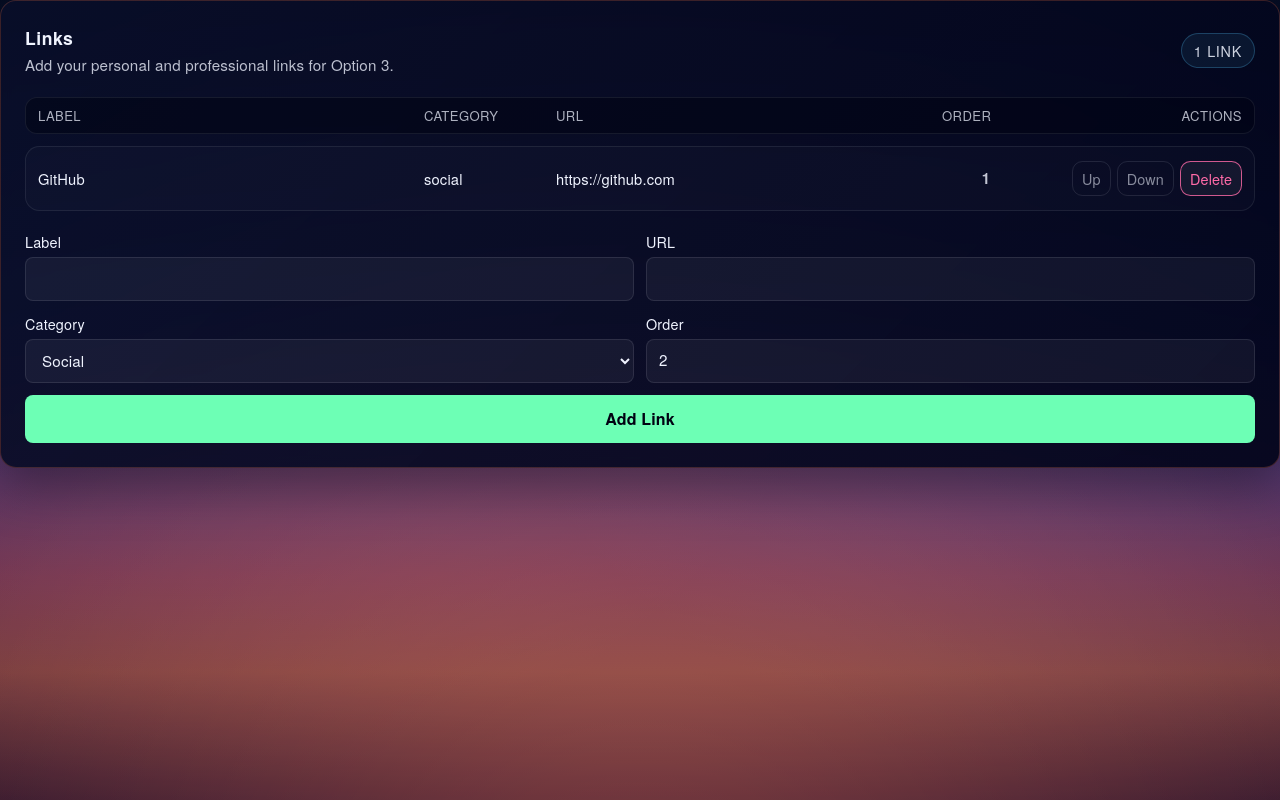
Test: LinksManager › surfaces server validation details
The image size is (1280, 800).
Type "Site" into the field labelled "Label" at (330, 279), box left=25, top=257, right=634, bottom=301
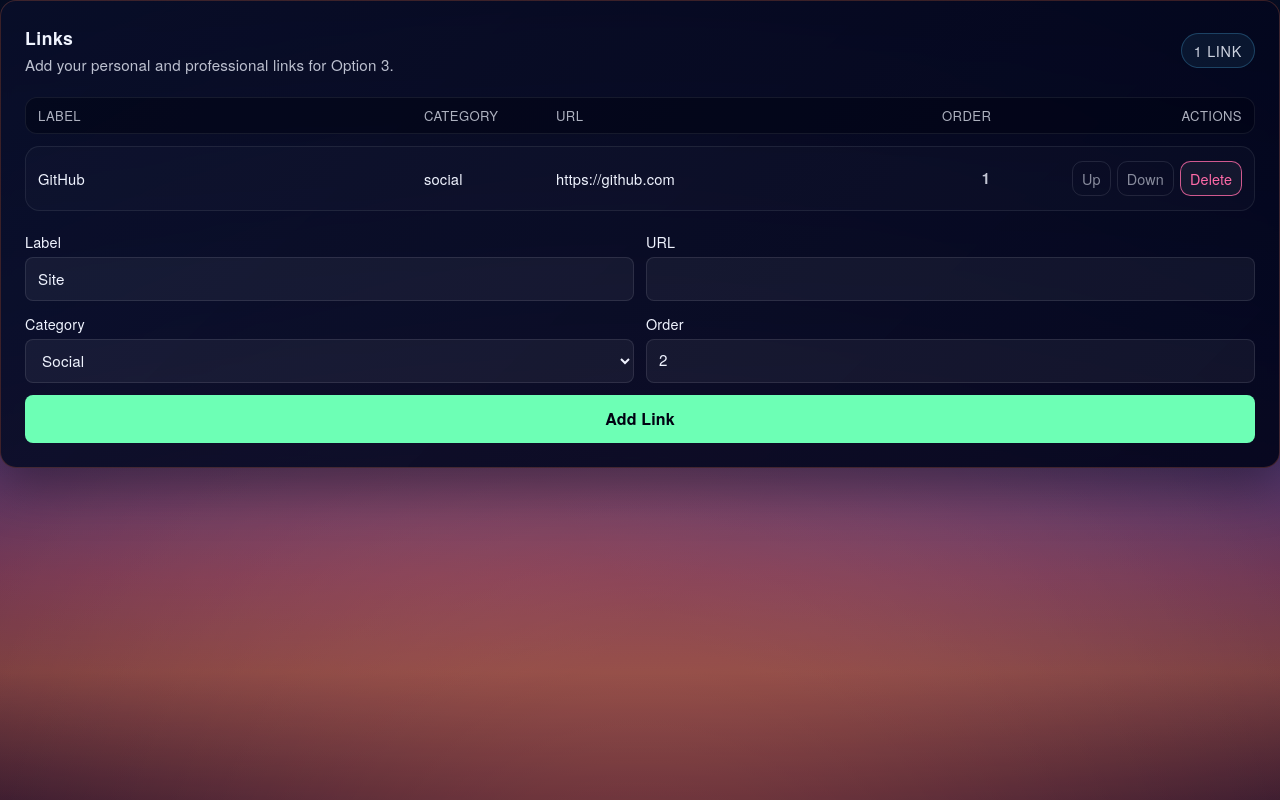
Type "http://bad.test" into the field labelled "URL" at (950, 279), box left=646, top=257, right=1255, bottom=301
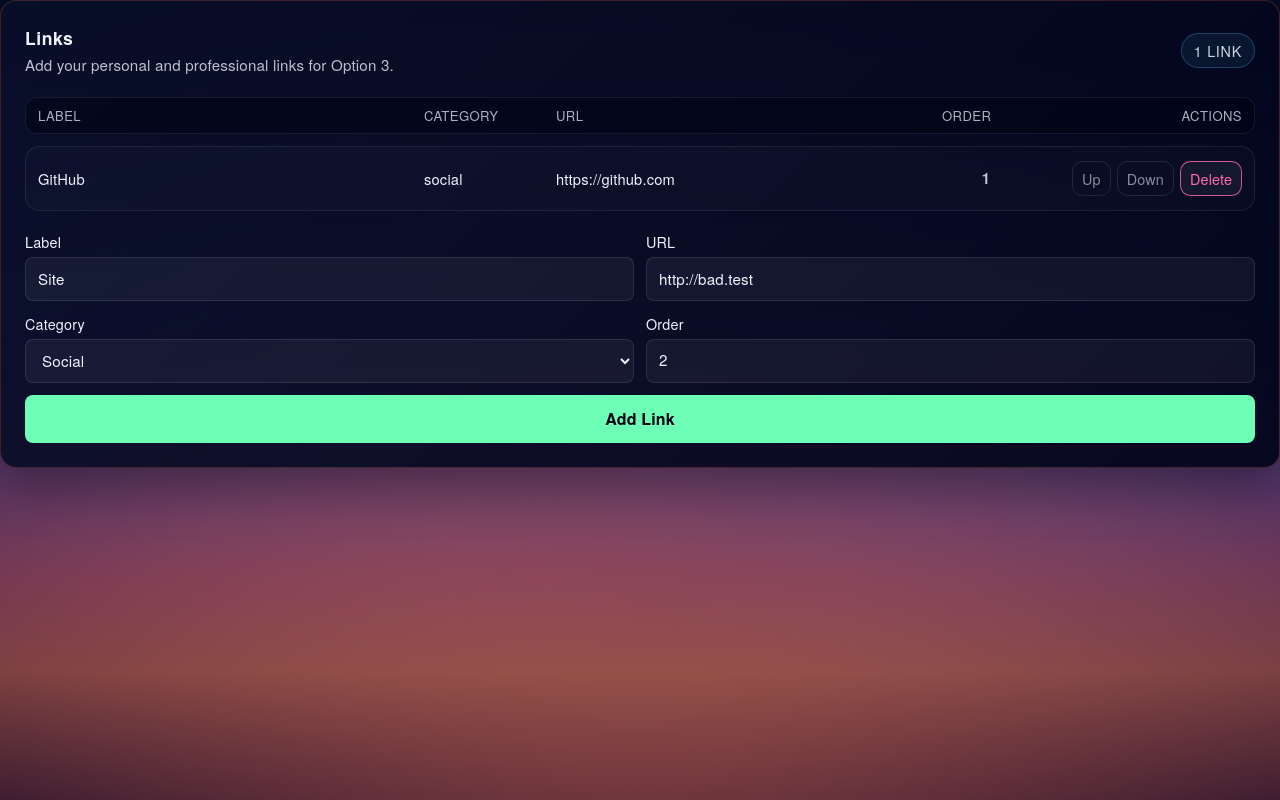
Click the button "Add Link" at (640, 419), box left=25, top=395, right=1255, bottom=443
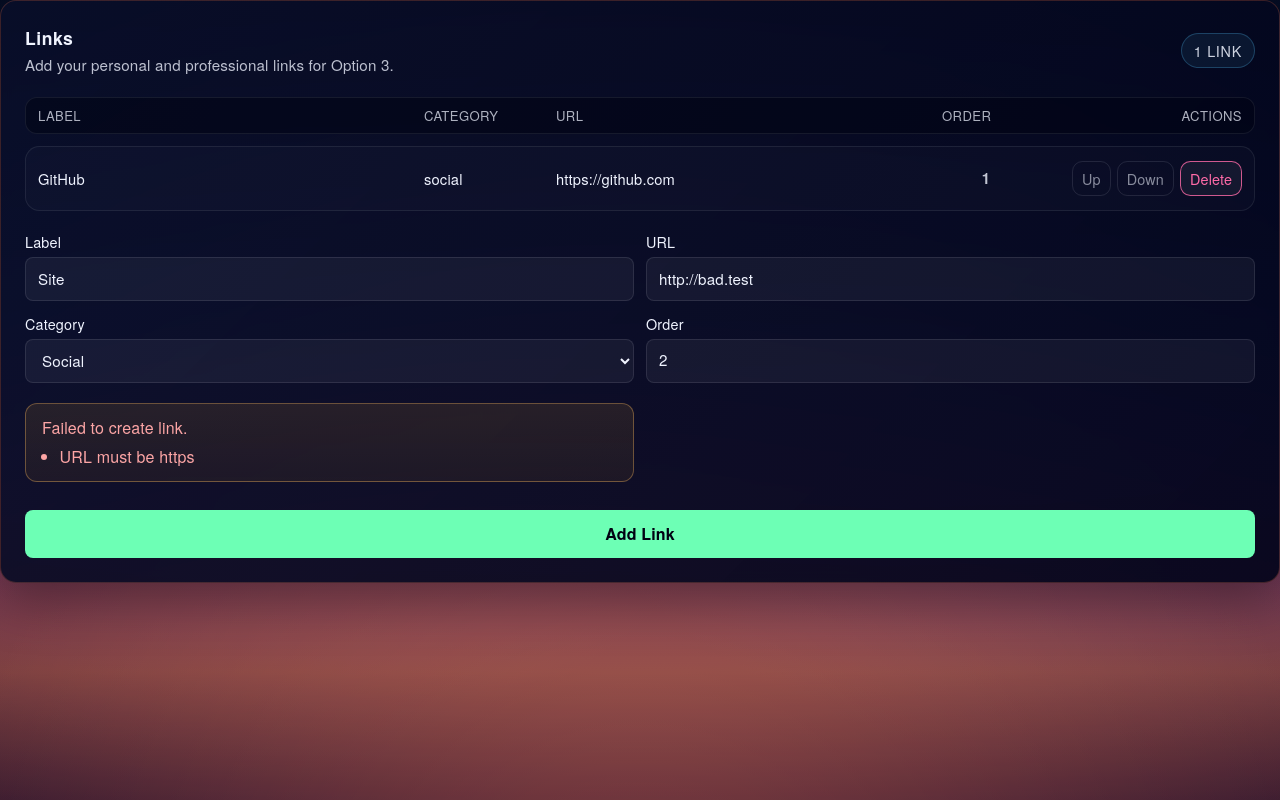
Expected: the text "Failed to create link." is shown, left=42, top=416, right=188, bottom=439
Expected: the list item "URL must be https" is shown, left=60, top=445, right=195, bottom=468
